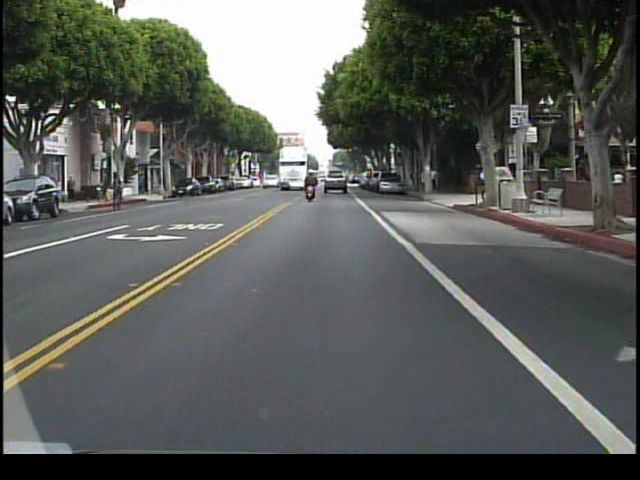person: (108, 169, 128, 208), (304, 166, 322, 207), (415, 166, 426, 194), (436, 165, 444, 192), (432, 168, 438, 192)
